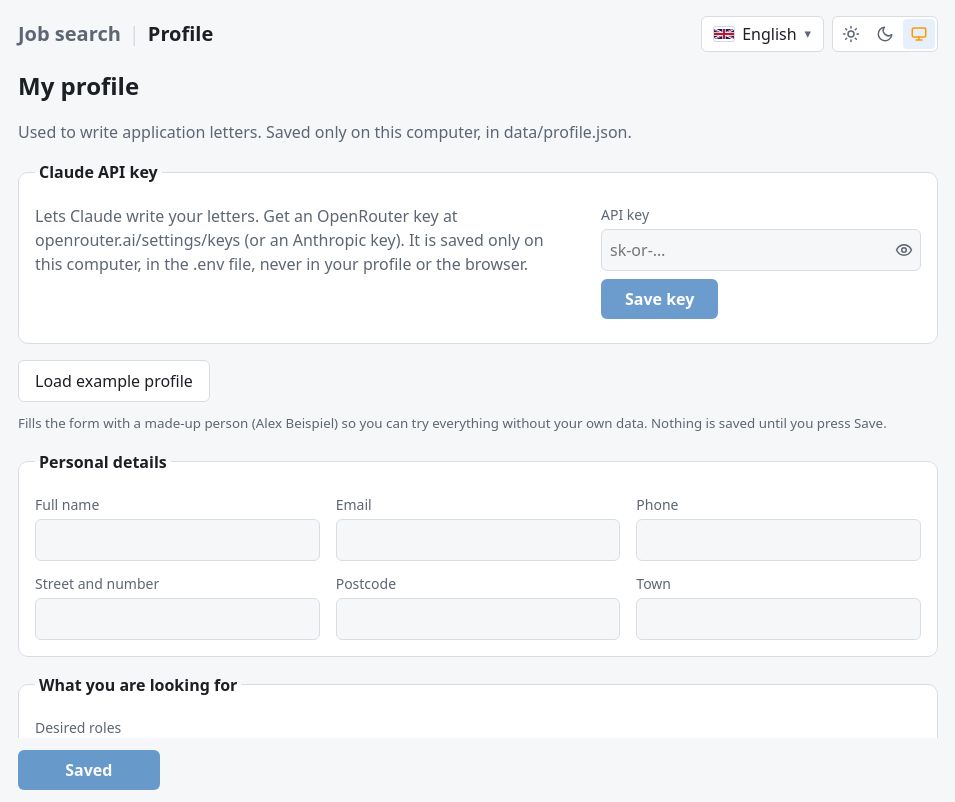
profile page › does not ask when the form is empty
Check: the field labelled "Full name" is shown, box x1=35 y1=519 x2=320 y2=561
Click the button "Load example profile". click: coordinates (114, 381)
box: x1=18 y1=360 x2=210 y2=402
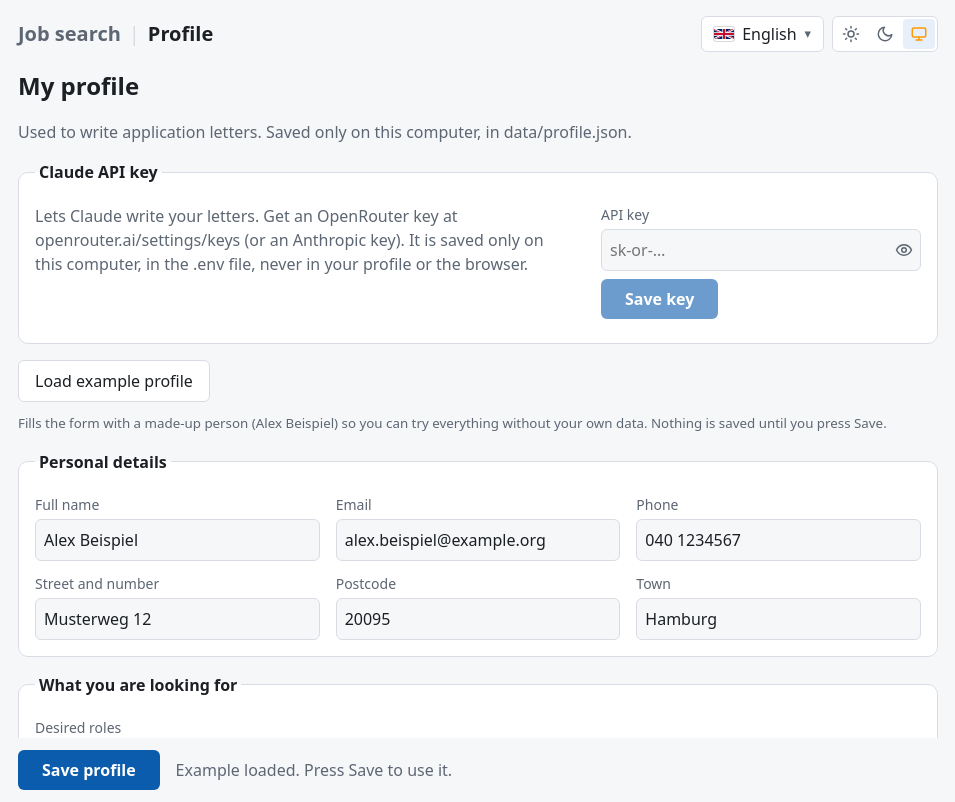
Check: the field labelled "Town" holds "Hamburg", box x1=636 y1=598 x2=921 y2=640
